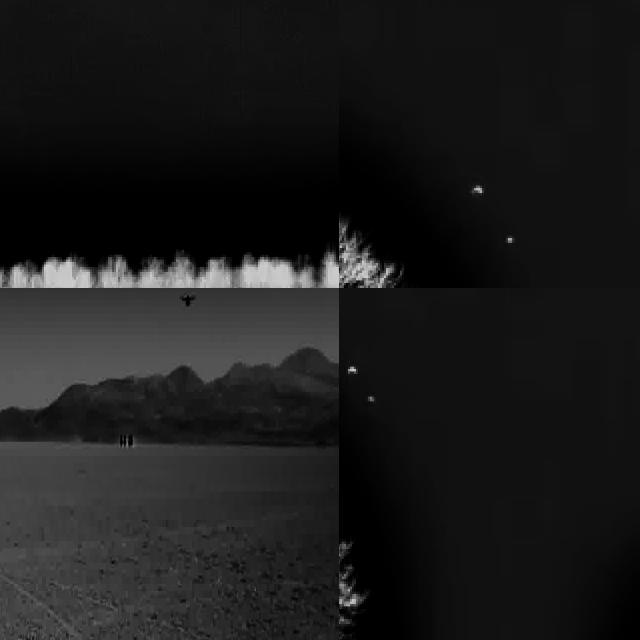0: (466, 178, 492, 206), (496, 228, 522, 256), (339, 364, 368, 384), (362, 392, 388, 414)
drone: (179, 288, 197, 313)
